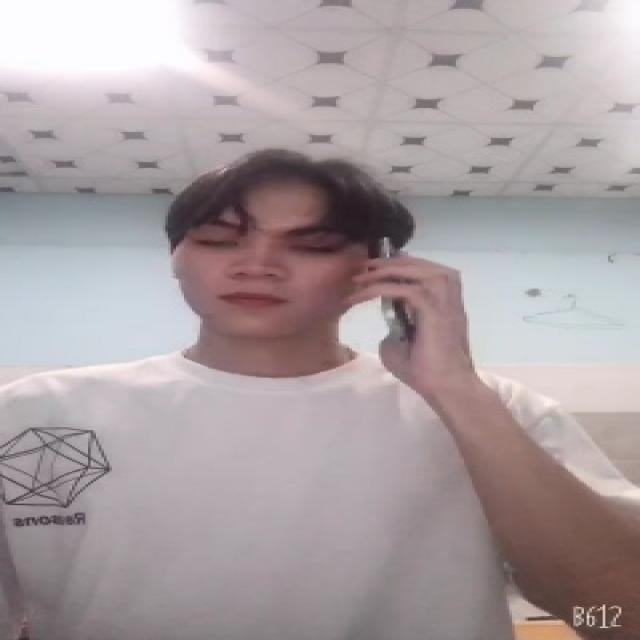Phone: (377, 231, 420, 353)
